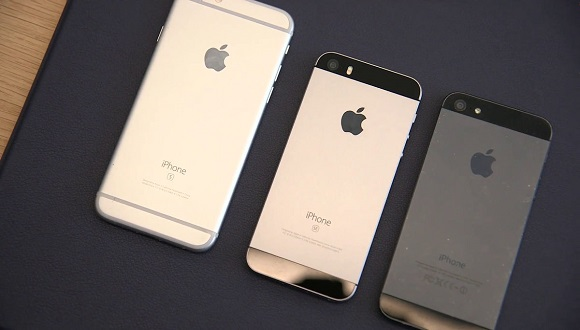apple: (326, 92, 379, 154), (192, 34, 250, 84), (467, 140, 504, 185)
